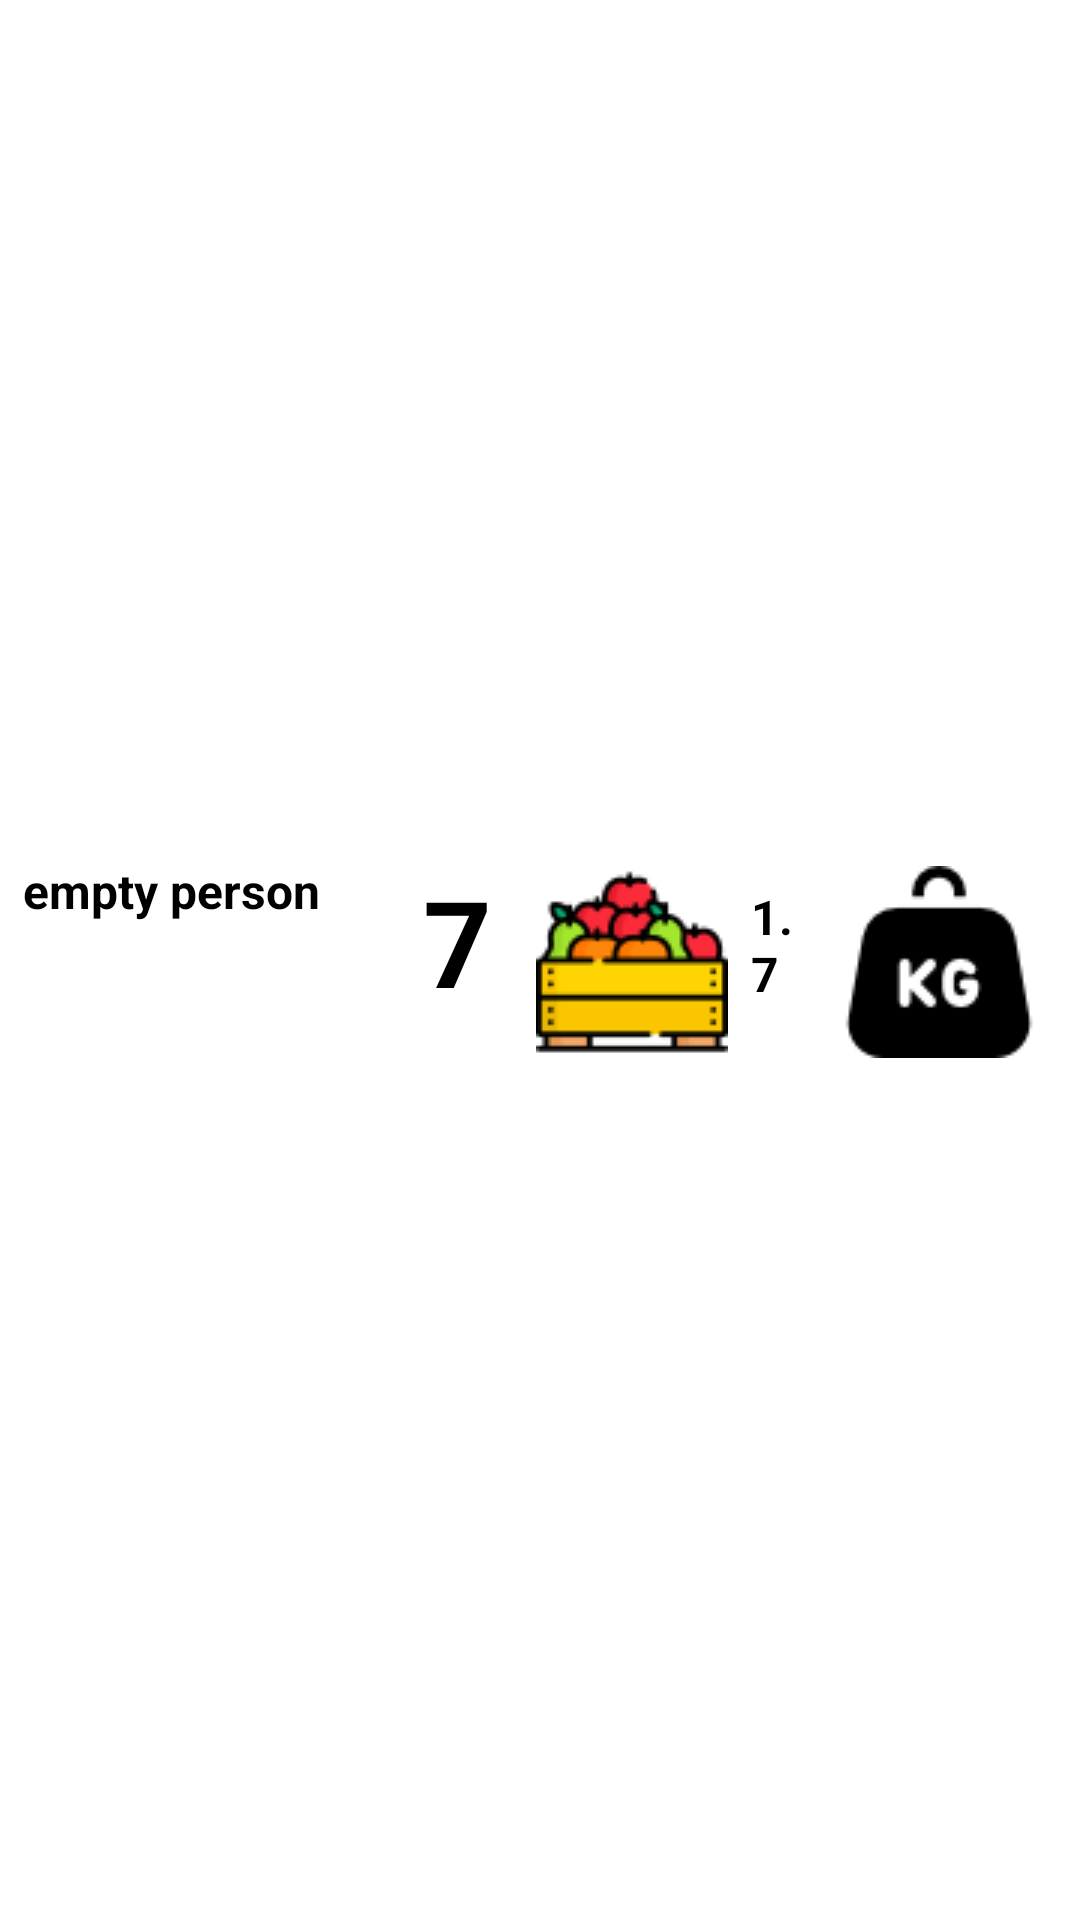

Screen size 1080×1920. Icon name, then its box in pixels as (x1,y1,x2,y2):
fruits: (536,871,728,1053)
weight: (846,866,1032,1058)
